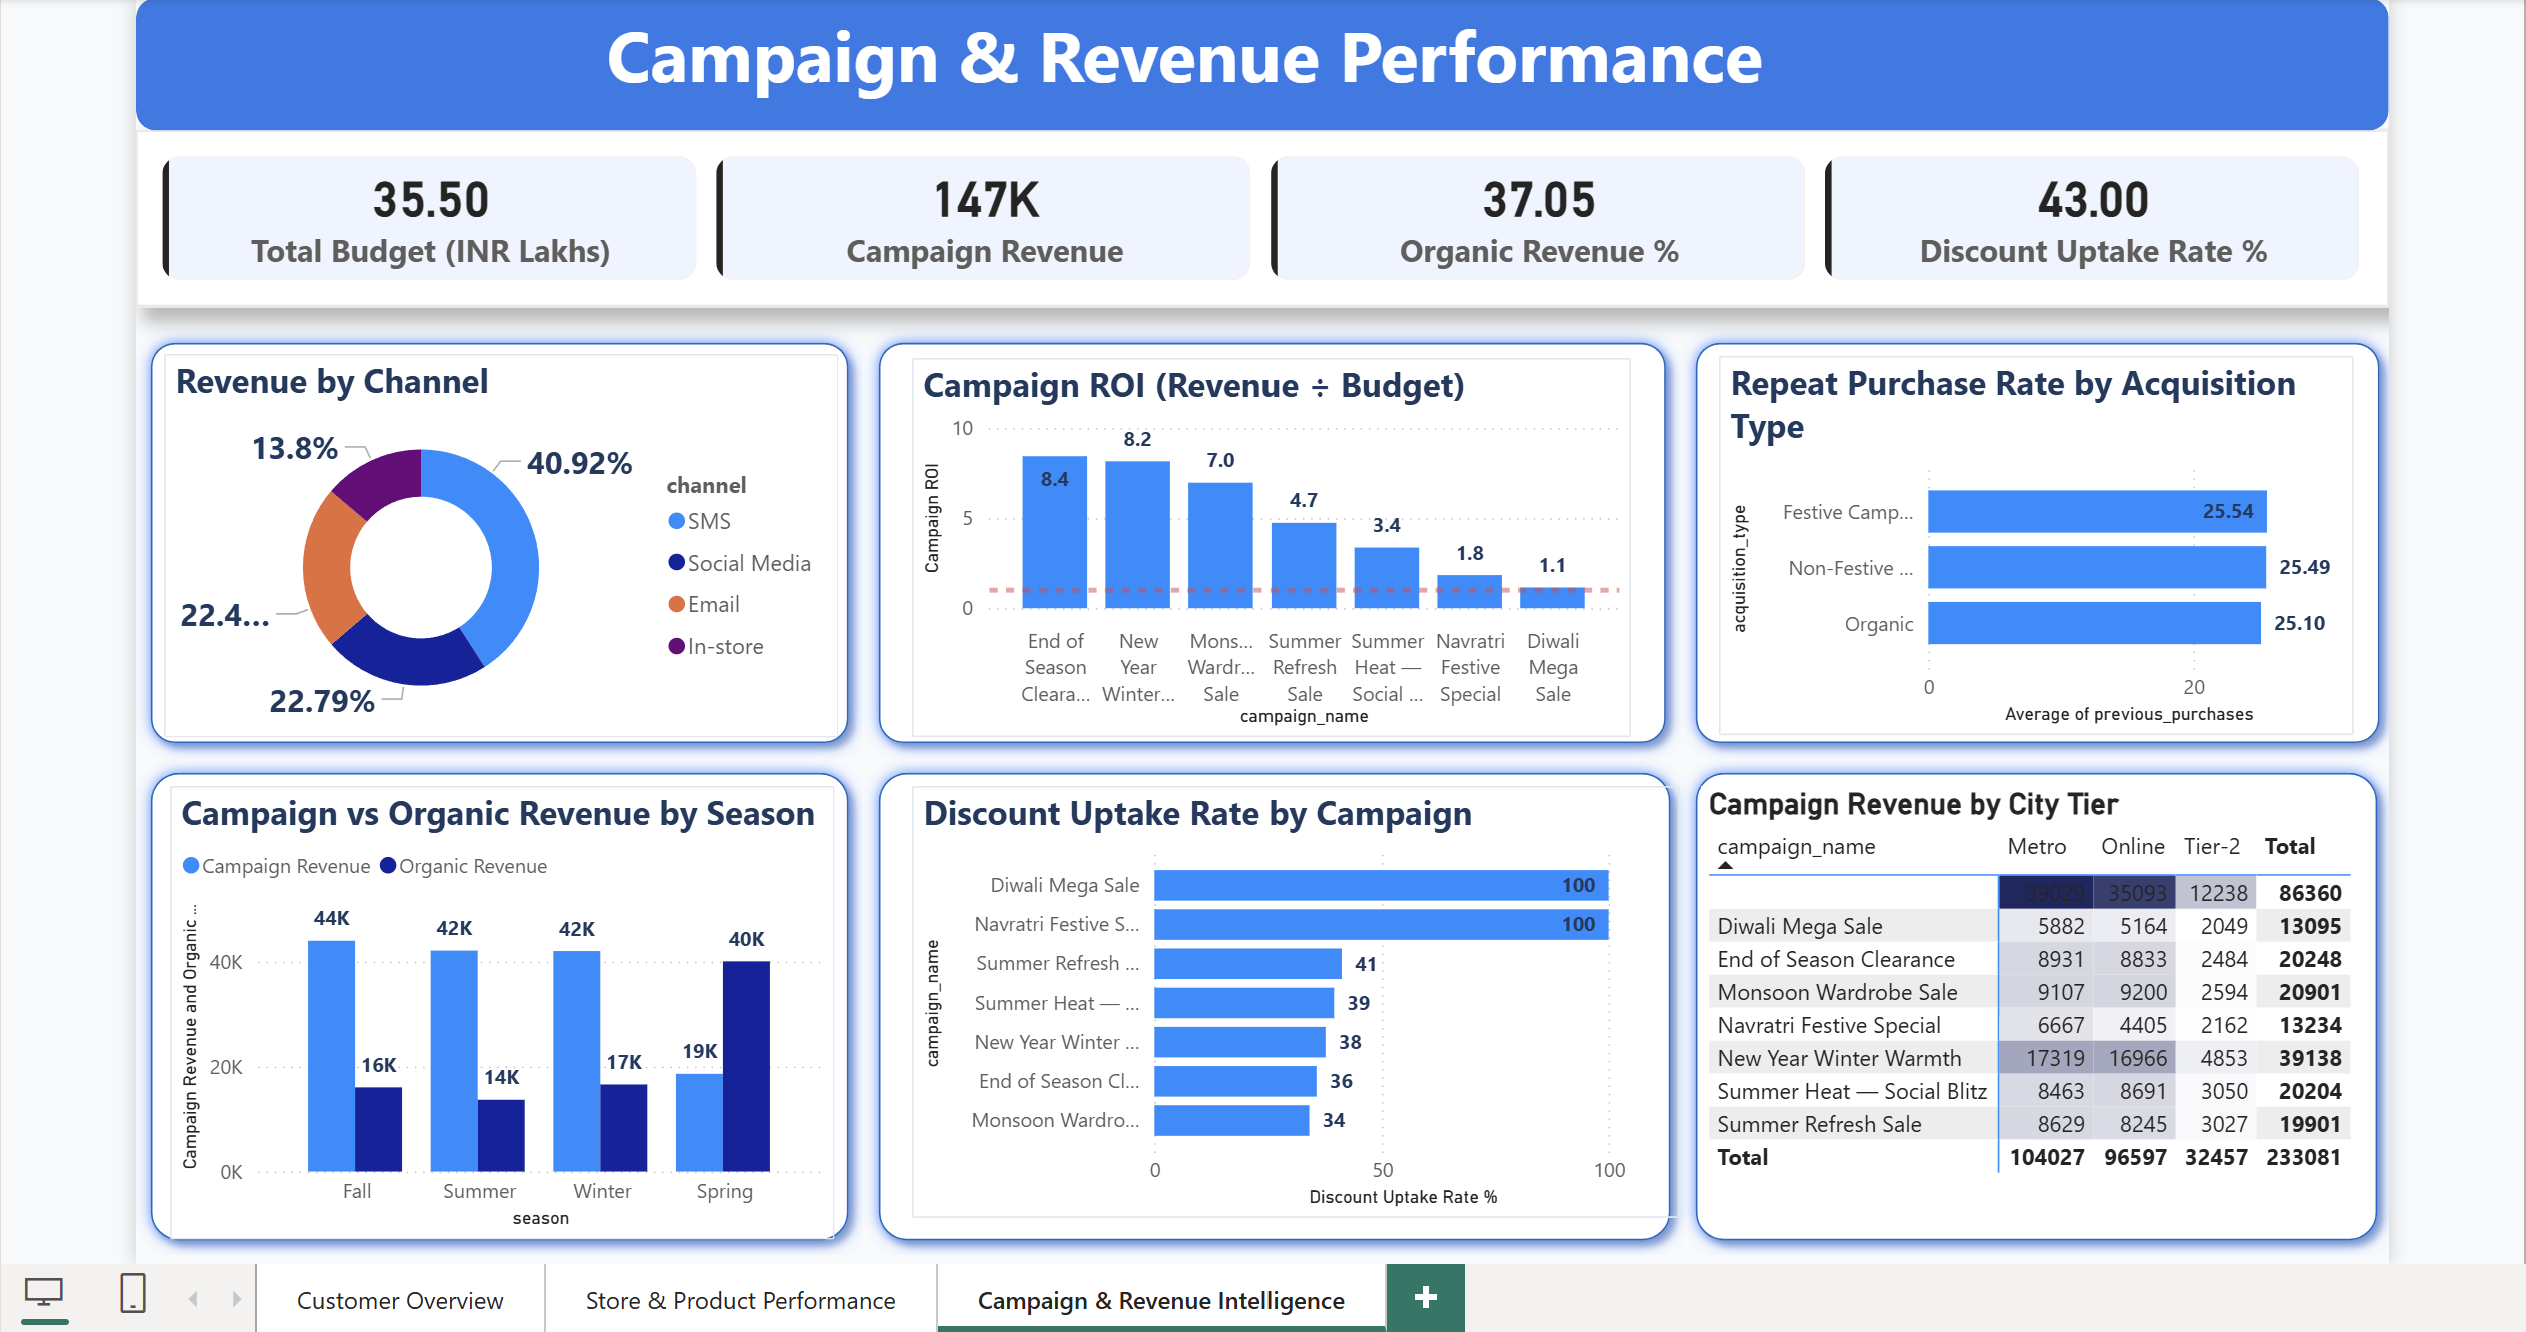

Layout of this report page (visuals, bound fields, positions):
{"tool":"powerbi","page":{"name":"Campaign & Revenue Intelligence","canvas":[1366,768],"ordinal":2},"visuals":[{"type":"cardVisual","fields":{"Data":["Sum(marketing_campaigns.budget_inr_lakhs)","_Measure.Campaign Revenue","_Measure.Organic Revenue %","_Measure.Discount Uptake Rate %"]},"box":[0,80.4,1366,107.1],"z":0},{"type":"shape","box":[0,0,1366,80.4],"z":6000},{"type":"textbox","box":[0,0,1272,80.4],"z":7000},{"type":"shape","box":[0,200.2,441.2,260.8],"z":8000},{"type":"shape","box":[936,200.2,432.8,260.8],"z":9000},{"type":"shape","box":[0,461,441.2,301.7],"z":10000},{"type":"shape","box":[441.2,461,497.6,301.7],"z":11000},{"type":"shape","box":[441.2,200.2,494.8,260.8],"z":12000},{"type":"shape","box":[936,461,431.4,301.7],"z":13000},{"type":"clusteredColumnChart","title":"Campaign ROI (Revenue ÷ Budget)","fields":{"Category":["marketing_campaigns.campaign_name"],"Y":["_Measure.Campaign ROI"]},"box":[470.8,218.5,435.6,229.8],"z":13031},{"type":"donutChart","title":"Revenue by Channel","fields":{"Y":["_Measure.Total Revenue"],"Category":["marketing_campaigns.channel"]},"box":[16.9,215.7,408.8,232.6],"z":13062},{"type":"clusteredBarChart","title":"Repeat Purchase Rate by Acquisition Type","fields":{"Category":["customer.acquisition_type"],"Y":["Avg(customer.previous_purchases)"]},"box":[960,217.1,384.8,229.8],"z":13125},{"type":"clusteredBarChart","title":"Discount Uptake Rate by Campaign","fields":{"Category":["marketing_campaigns.campaign_name"],"Y":["_Measure.Discount Uptake Rate %"]},"box":[470.8,477.9,465.2,262.2],"z":13250},{"type":"pivotTable","title":"Campaign Revenue by City Tier","fields":{"Rows":["marketing_campaigns.campaign_name"],"Columns":["stores.city_tier"],"Values":["_Measure.Total Revenue"]},"box":[948.7,477.9,406,262.2],"z":13500},{"type":"clusteredColumnChart","title":"Campaign vs Organic Revenue by Season","fields":{"Category":["customer.season"],"Y":["_Measure.Campaign Revenue","_Measure.Organic Revenue"]},"box":[21.1,477.9,403.2,274.9],"z":14000}]}

Visuals, with their boxes on the page's 1366x768 design canvas (x1, y1, x2, y2). These are canvas units, not pixel positions in the 2526x1332 screenshot, which may show the page scaled, cropped or inside an application window:
cardVisual - Sum(marketing_campaigns.budget_inr_lakhs) x _Measure.Campaign Revenue: {"left": 0, "top": 80, "right": 1366, "bottom": 188}
shape: {"left": 0, "top": 0, "right": 1366, "bottom": 80}
textbox: {"left": 0, "top": 0, "right": 1272, "bottom": 80}
shape: {"left": 0, "top": 200, "right": 441, "bottom": 461}
shape: {"left": 936, "top": 200, "right": 1369, "bottom": 461}
shape: {"left": 0, "top": 461, "right": 441, "bottom": 763}
shape: {"left": 441, "top": 461, "right": 939, "bottom": 763}
shape: {"left": 441, "top": 200, "right": 936, "bottom": 461}
shape: {"left": 936, "top": 461, "right": 1367, "bottom": 763}
"Campaign ROI (Revenue ÷ Budget)" clusteredColumnChart: {"left": 471, "top": 218, "right": 906, "bottom": 448}
"Revenue by Channel" donutChart: {"left": 17, "top": 216, "right": 426, "bottom": 448}
"Repeat Purchase Rate by Acquisition Type" clusteredBarChart: {"left": 960, "top": 217, "right": 1345, "bottom": 447}
"Discount Uptake Rate by Campaign" clusteredBarChart: {"left": 471, "top": 478, "right": 936, "bottom": 740}
"Campaign Revenue by City Tier" pivotTable: {"left": 949, "top": 478, "right": 1355, "bottom": 740}
"Campaign vs Organic Revenue by Season" clusteredColumnChart: {"left": 21, "top": 478, "right": 424, "bottom": 753}
